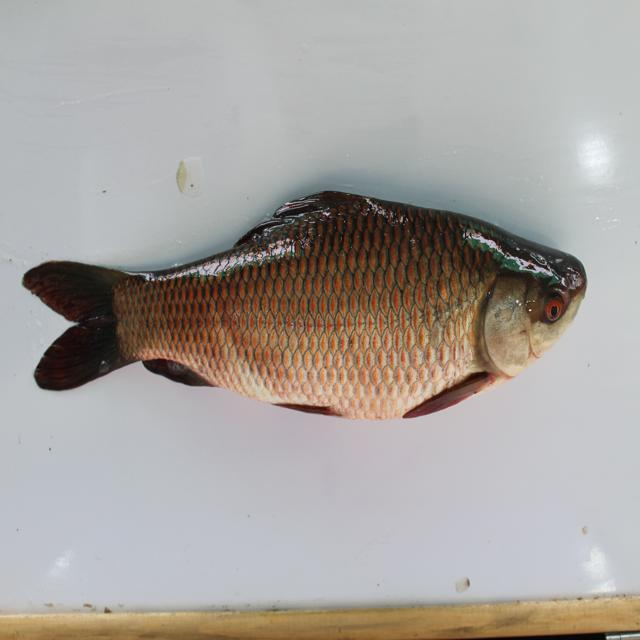Rohu: (29, 189, 588, 449)
